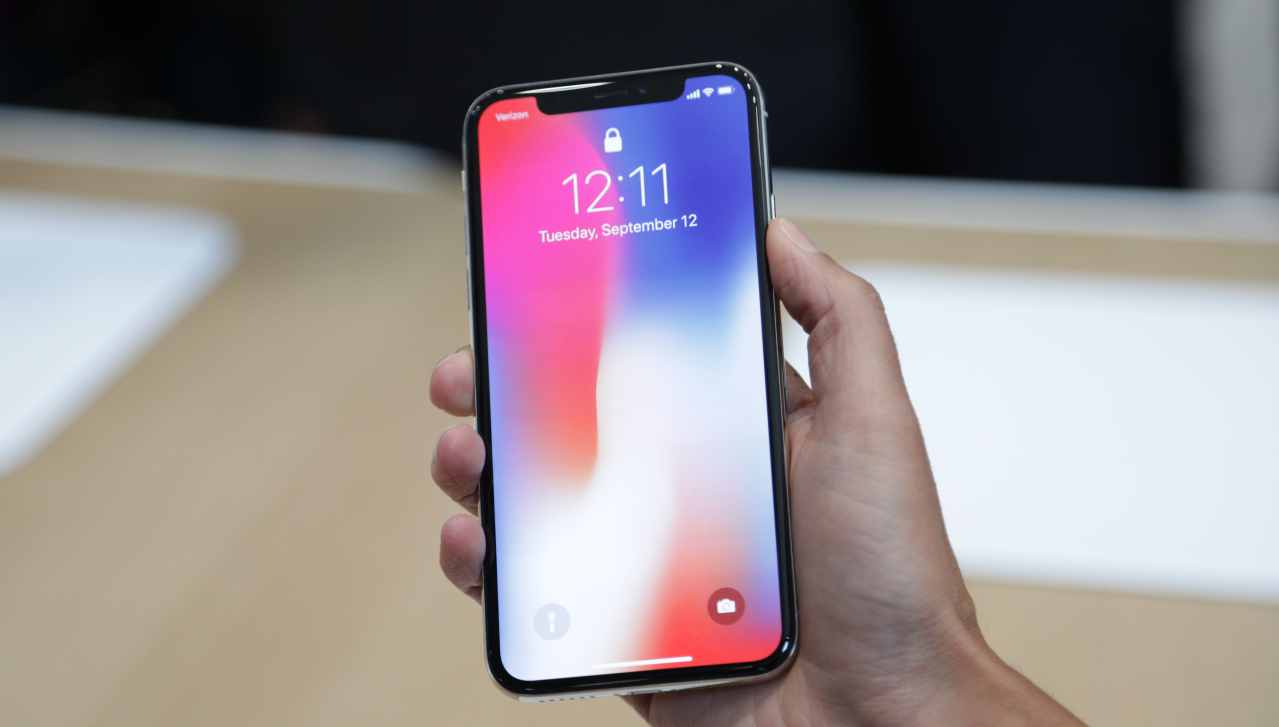smartphone: (463, 58, 804, 705)
